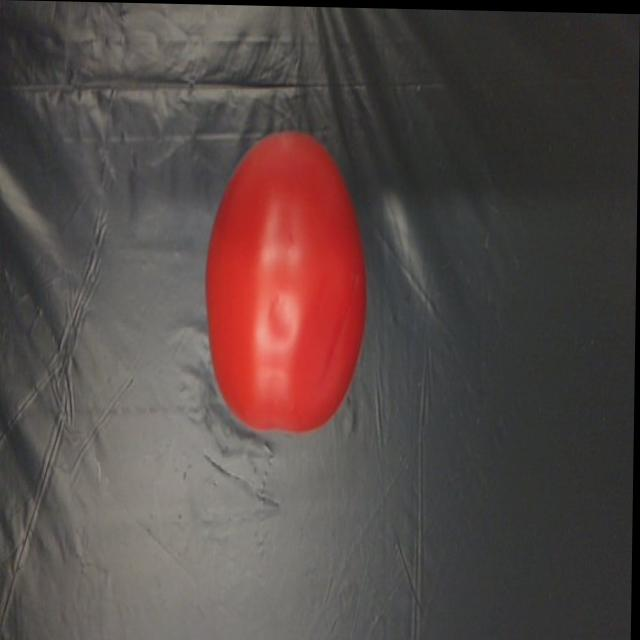kirmizi: (187, 118, 387, 458)
